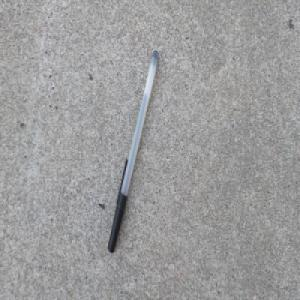Pen: (106, 49, 160, 255)
